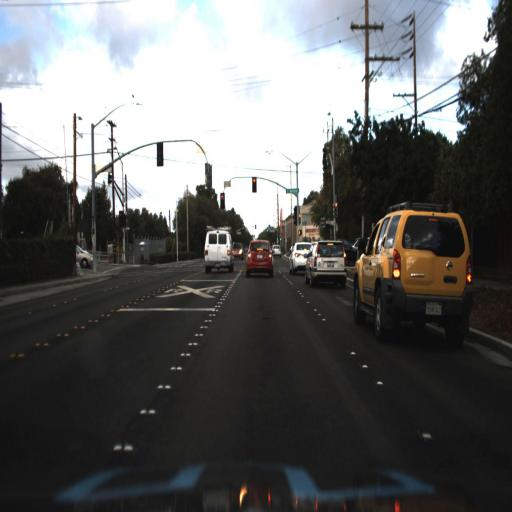car: (352, 197, 482, 359), (302, 236, 350, 288), (198, 224, 236, 274), (239, 236, 280, 280), (71, 242, 98, 267), (288, 234, 305, 273), (232, 236, 247, 264)
trafficLight: (218, 186, 226, 205)
trafficLight-Red: (331, 197, 342, 227), (250, 166, 258, 193), (296, 208, 304, 230)
trafficLight-RedLeft: (116, 206, 127, 234)
